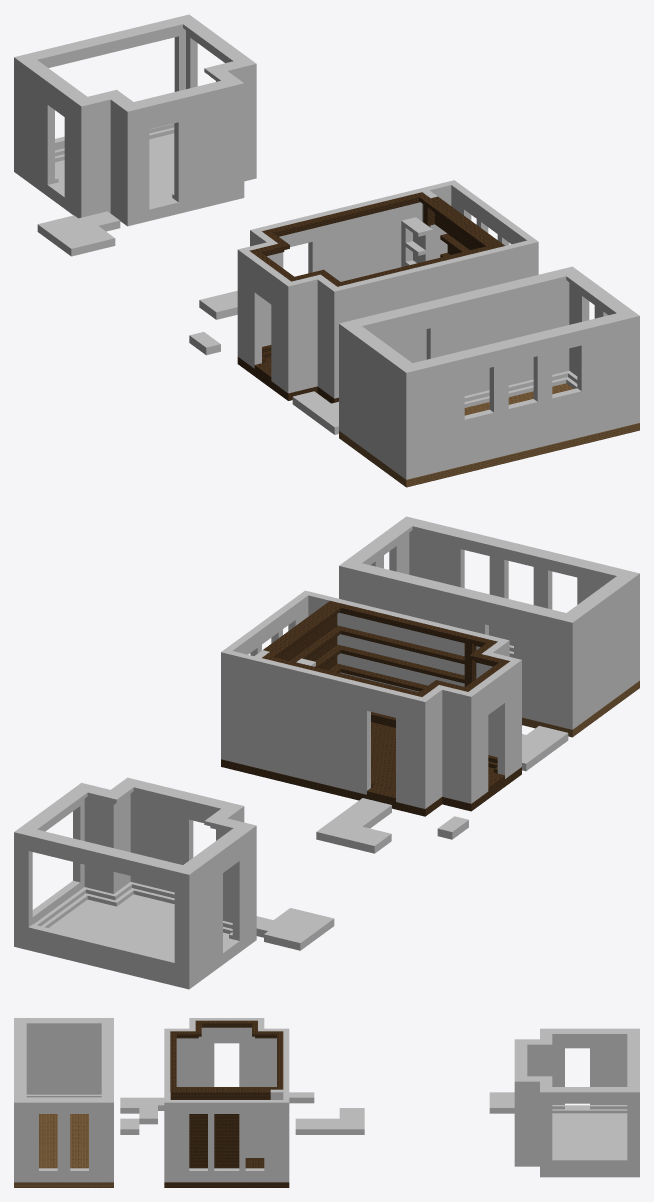
Rendered from Mansion4.obj.
3 views of the same model, one above another, from view 1: azimuth 30°, elevation 25°; view 2: azimuth 150°, elevation 25°; view 3: azimuth 270°, elevation 25° (orthographic). The views are drawn at different scales.
Parts seen in each view (by area): view 1: Purple_Terracotta, Blue_Terracotta, Cyan_Concrete, Birch_Stairs, Dark_Oak_Stairs, Acacia_Stairs, Acacia_Wood_Planks, Spruce_Wood_Planks, White_Concrete, Dark_Oak_Wood_Planks, Black_Concrete, Red_Nether_Bricks; view 2: Blue_Terracotta, Purple_Terracotta, Cyan_Concrete, Acacia_Wood_Planks, Dark_Oak_Wood_Planks, Acacia_Stairs, Dark_Oak_Slab, Birch_Stairs, Dark_Oak_Stairs, White_Concrete, Black_Concrete, Spruce_Wood_Planks; view 3: Blue_Terracotta, Purple_Terracotta, Cyan_Concrete, Dark_Oak_Wood_Planks, Acacia_Wood_Planks, Spruce_Wood_Planks, Acacia_Stairs, White_Concrete, Birch_Stairs, Dark_Oak_Stairs, Black_Concrete, Red_Nether_Bricks.
Part boxes in pixels (left/top/right/bottom): Purple_Terracotta: left=339, top=266, right=639, bottom=479; Blue_Terracotta: left=237, top=180, right=538, bottom=398; Cyan_Concrete: left=14, top=14, right=256, bottom=218; Birch_Stairs: left=351, top=271, right=627, bottom=407; Dark_Oak_Stairs: left=249, top=192, right=497, bottom=362; Acacia_Stairs: left=26, top=19, right=244, bottom=198; Acacia_Wood_Planks: left=14, top=133, right=256, bottom=226; Spruce_Wood_Planks: left=339, top=383, right=639, bottom=487; White_Concrete: left=52, top=215, right=338, bottom=434; Dark_Oak_Wood_Planks: left=237, top=196, right=504, bottom=403; Black_Concrete: left=37, top=211, right=338, bottom=425; Red_Nether_Bricks: left=401, top=217, right=432, bottom=266; Blue_Terracotta: left=221, top=590, right=521, bottom=808; Purple_Terracotta: left=339, top=516, right=639, bottom=729; Cyan_Concrete: left=14, top=777, right=256, bottom=981; Acacia_Wood_Planks: left=14, top=894, right=256, bottom=989; Dark_Oak_Wood_Planks: left=221, top=600, right=521, bottom=816; Acacia_Stairs: left=26, top=782, right=244, bottom=939; Dark_Oak_Slab: left=289, top=625, right=504, bottom=801; Birch_Stairs: left=350, top=521, right=627, bottom=657; Dark_Oak_Stairs: left=262, top=602, right=509, bottom=787; White_Concrete: left=261, top=726, right=568, bottom=947; Black_Concrete: left=256, top=735, right=555, bottom=950; Spruce_Wood_Planks: left=522, top=680, right=639, bottom=737; Blue_Terracotta: left=164, top=1018, right=289, bottom=1182; Purple_Terracotta: left=14, top=1018, right=113, bottom=1182; Cyan_Concrete: left=514, top=1028, right=639, bottom=1171; Dark_Oak_Wood_Planks: left=164, top=1039, right=289, bottom=1187; Acacia_Wood_Planks: left=514, top=1113, right=639, bottom=1177; Spruce_Wood_Planks: left=14, top=1114, right=113, bottom=1187; Acacia_Stairs: left=521, top=1031, right=633, bottom=1113; White_Concrete: left=120, top=1092, right=514, bottom=1134; Birch_Stairs: left=20, top=1020, right=107, bottom=1099; Dark_Oak_Stairs: left=170, top=1020, right=283, bottom=1089; Black_Concrete: left=139, top=1097, right=514, bottom=1134; Red_Nether_Bricks: left=245, top=1114, right=264, bottom=1157.
Bounding box in the file's own units: 34 × 15 × 100.
